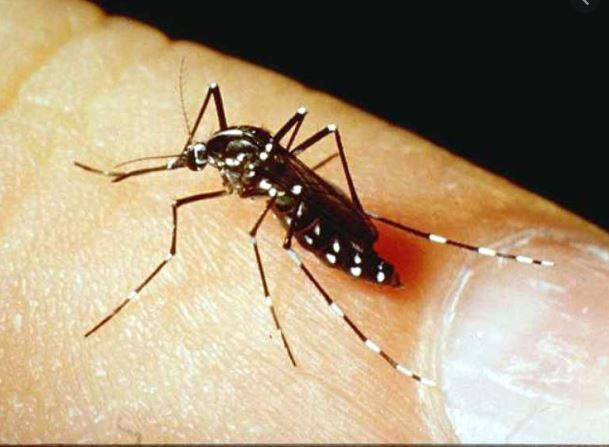dengue_mosquito: (73, 54, 440, 383)
